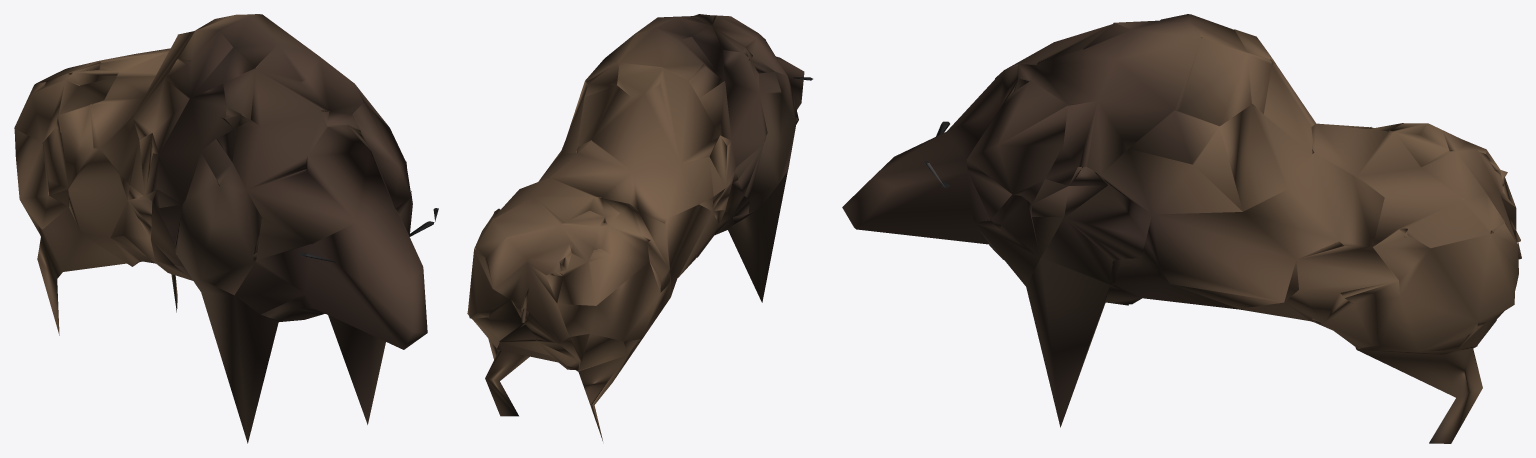
Rendered from bison.glb.
3 views of the same model, side by side, from view 1: azimuth 30°, elevation 25°; view 2: azimuth 150°, elevation 25°; view 3: azimuth 270°, elevation 25° (orthographic). The views are drawn at different scales.
Visible parts, largest first — view 1: lack; view 2: lack; view 3: lack.
Boxes of the visible parts, x1,y1,x2,y2 form: lack: [14, 14, 438, 443]; lack: [467, 14, 812, 440]; lack: [842, 14, 1521, 443].
Bounding box in the file's own units: 1.22 × 2.29 × 3.53.
